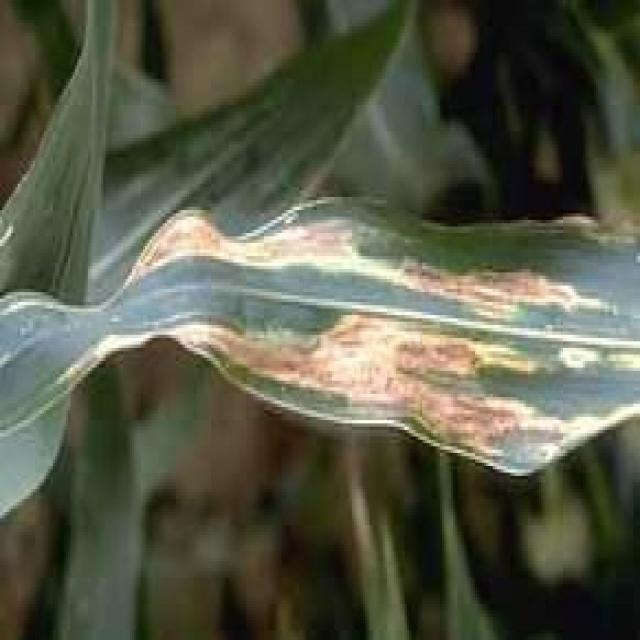blight: (216, 262, 560, 426)
